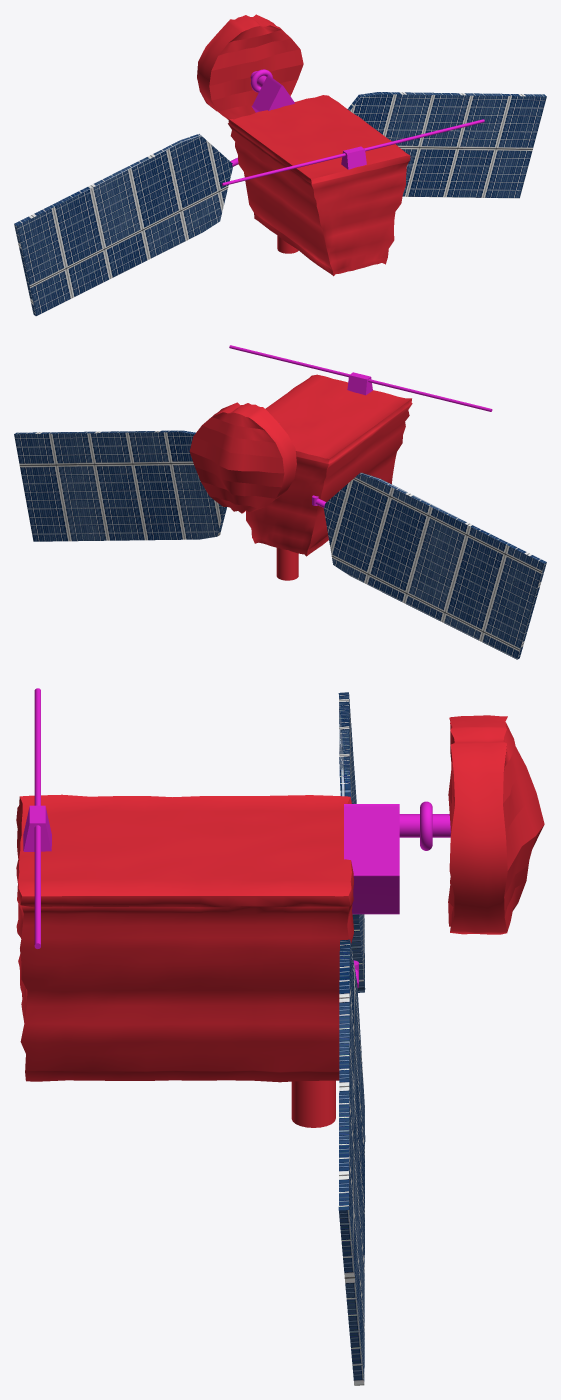
Rendered from SateliteTexturizado.fbx.
3 views of the same model, one above another, from view 1: azimuth 30°, elevation 25°; view 2: azimuth 150°, elevation 25°; view 3: azimuth 270°, elevation 25° (orthographic). The views are drawn at different scales.
Parts seen in each view (by area): view 1: Satelite.001; view 2: Satelite.001; view 3: Satelite.001.
Boxes of the visible parts, x1,y1,x2,y2 form: Satelite.001: [14, 14, 546, 316]; Satelite.001: [14, 345, 546, 659]; Satelite.001: [16, 688, 544, 1385].
Size of the model in its own units: 2308 by 890 by 995.
